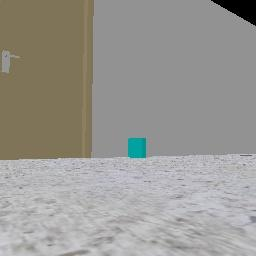turcoaz: (128, 138, 146, 157)
